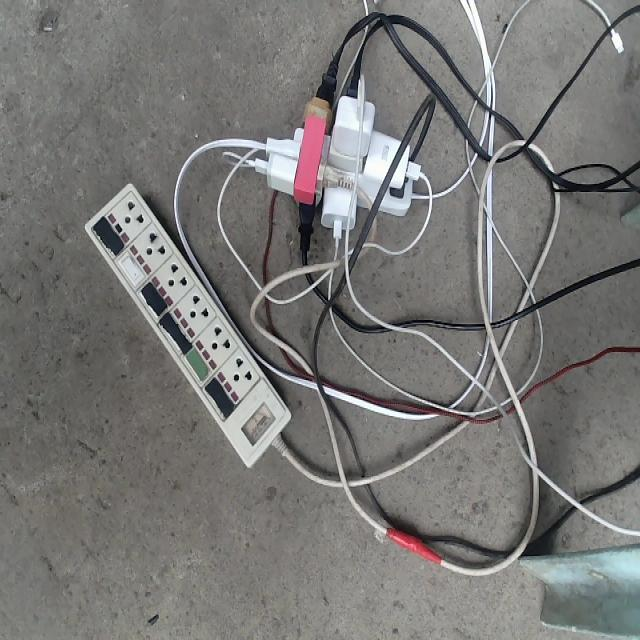-: (249, 53, 420, 260)
